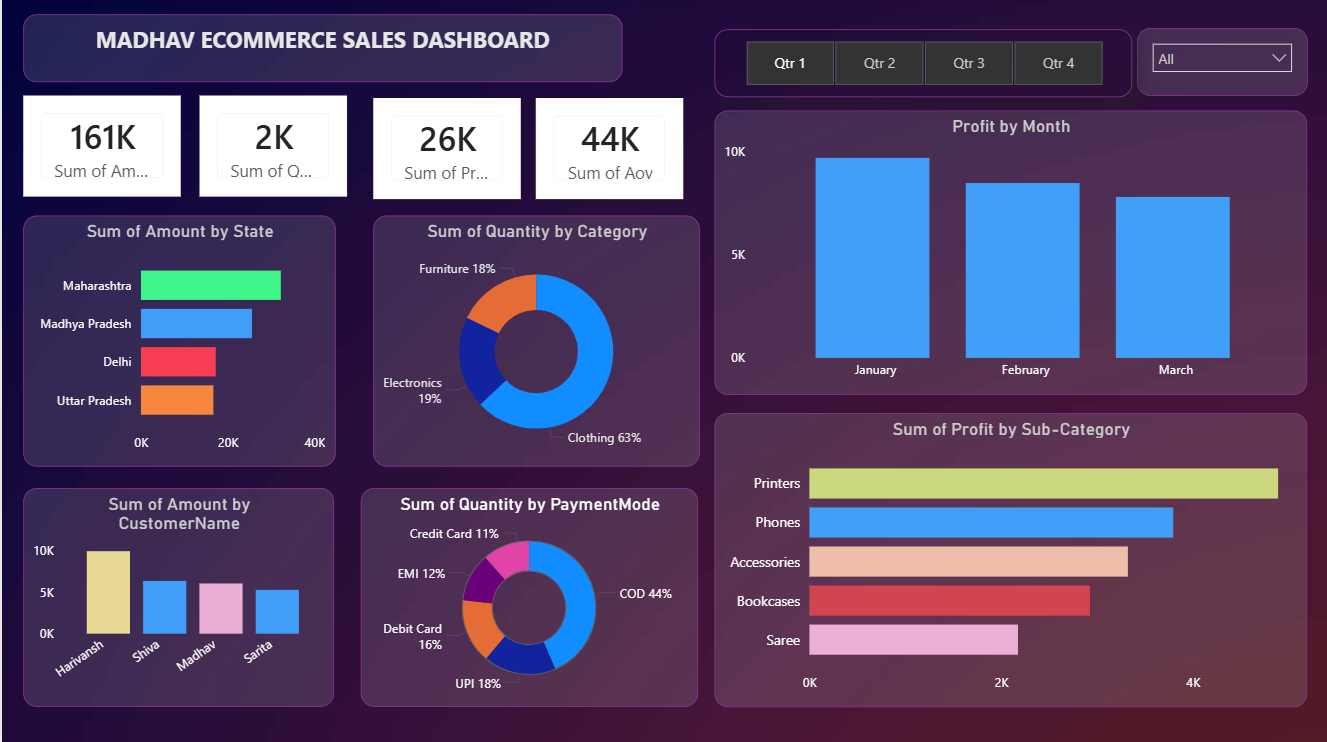

Layout of this report page (visuals, bound fields, positions):
{"tool":"powerbi","page":{"name":"Page 1","canvas":[1280,720],"ordinal":0},"visuals":[{"type":"textbox","box":[20.6,15.1,578.6,65.8],"z":0},{"type":"columnChart","title":" Profit by Month","fields":{"Category":["Orders.Order Date.Variation.Date Hierarchy.Month"],"Y":["Sum(Details.Profit)"]},"box":[688.3,108.3,571.7,274.2],"z":1000},{"type":"barChart","fields":{"Category":["Details.Sub-Category"],"Y":["Sum(Details.Profit)"]},"box":[688.3,400.3,571.7,283.8],"z":2000},{"type":"donutChart","fields":{"Category":["Details.Category"],"Y":["Sum(Details.Quantity)"]},"box":[357.8,209.8,315.3,242.7],"z":3000},{"type":"donutChart","fields":{"Y":["Sum(Details.Quantity)"],"Category":["Details.PaymentMode"]},"box":[346.2,472.9,325.7,211.1],"z":4000},{"type":"clusteredBarChart","fields":{"Category":["Orders.State"],"Y":["Sum(Details.Amount)"]},"box":[20.6,209.8,301.6,242.7],"z":5000},{"type":"columnChart","fields":{"Category":["Orders.CustomerName"],"Y":["Sum(Details.Amount)"]},"box":[21,473,300,211],"z":6000},{"type":"cardVisual","fields":{"Data":["Sum(Details.Amount)"]},"box":[20.6,94.6,152.2,97.3],"z":7000},{"type":"cardVisual","fields":{"Data":["Sum(Details.Quantity)"]},"box":[190.6,94.6,142.6,97.3],"z":8000},{"type":"cardVisual","fields":{"Data":["Sum(Details.Profit)"]},"box":[357.8,96,142.6,97.3],"z":9000},{"type":"cardVisual","fields":{"Data":["Sum(Details.Aov)"]},"box":[515.5,96,142.6,97.3],"z":10000},{"type":"slicer","fields":{"Values":["Orders.State"]},"box":[1095.5,28.8,164.5,65.8],"z":11000},{"type":"slicer","fields":{"Values":["Orders.Order Date.Variation.Date Hierarchy.Quarter"]},"box":[688.3,30.2,403.1,65.8],"z":12000}]}

Visuals, with their boxes in screenshot pixels (x1, y1, x2, y2), scaled from the page's 1280x720 canvas onto the 1327x742 screenshot:
textbox: 21,16,621,83
" Profit by Month" columnChart: 714,112,1306,394
barChart - Details.Sub-Category x Sum(Details.Profit): 714,413,1306,705
donutChart - Details.Category x Sum(Details.Quantity): 371,216,698,466
donutChart - Sum(Details.Quantity) x Details.PaymentMode: 359,487,697,705
clusteredBarChart - Orders.State x Sum(Details.Amount): 21,216,334,466
columnChart - Orders.CustomerName x Sum(Details.Amount): 22,487,333,705
cardVisual - Sum(Details.Amount): 21,97,179,198
cardVisual - Sum(Details.Quantity): 198,97,345,198
cardVisual - Sum(Details.Profit): 371,99,519,199
cardVisual - Sum(Details.Aov): 534,99,682,199
slicer - Orders.State: 1136,30,1306,97
slicer - Orders.Order Date.Variation.Date Hierarchy.Quarter: 714,31,1131,99
